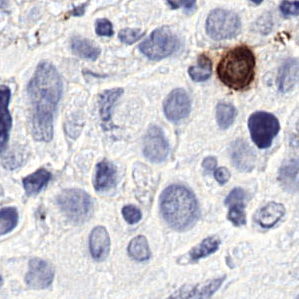Lymphocyte: (216, 45, 257, 89)
